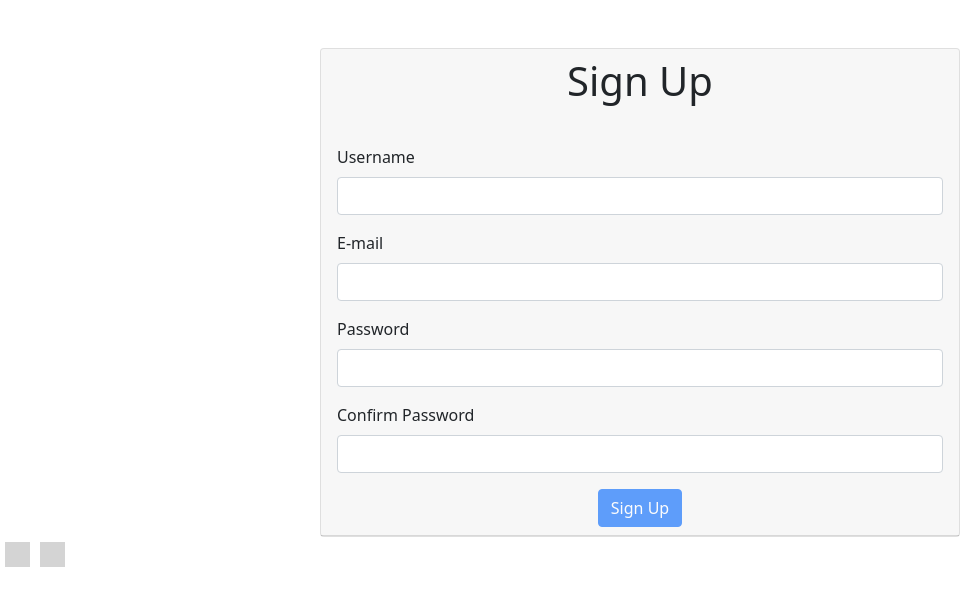
Test case: Sign Up Page › Internationalization › sends the accept-language having en to the backend for sign up request
Type "user1" into the field labelled "Username".
click(640, 196); type("user1")  # box [337, 177, 943, 215]
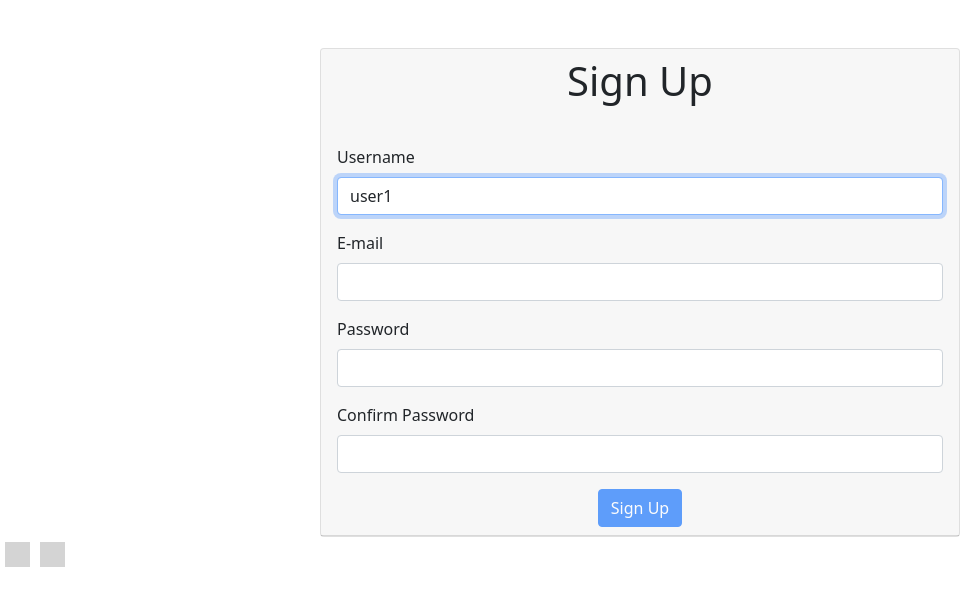
Type "user1@mail.com" into the field labelled "E-mail".
click(640, 282); type("user1@mail.com")  # box [337, 263, 943, 301]
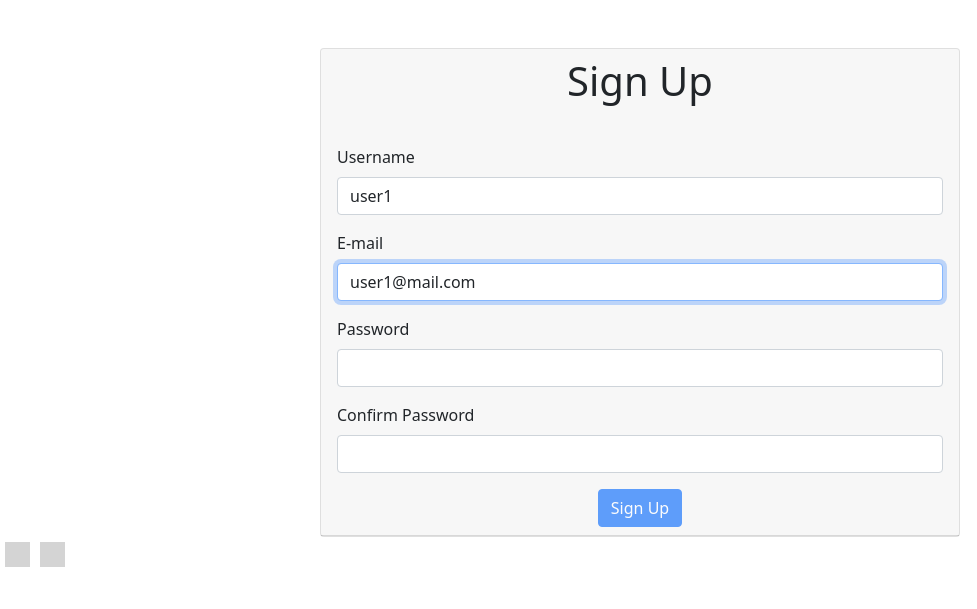
Type "P4ssword" into the password field labelled "Password".
click(640, 368); type("P4ssword")  # box [337, 349, 943, 387]
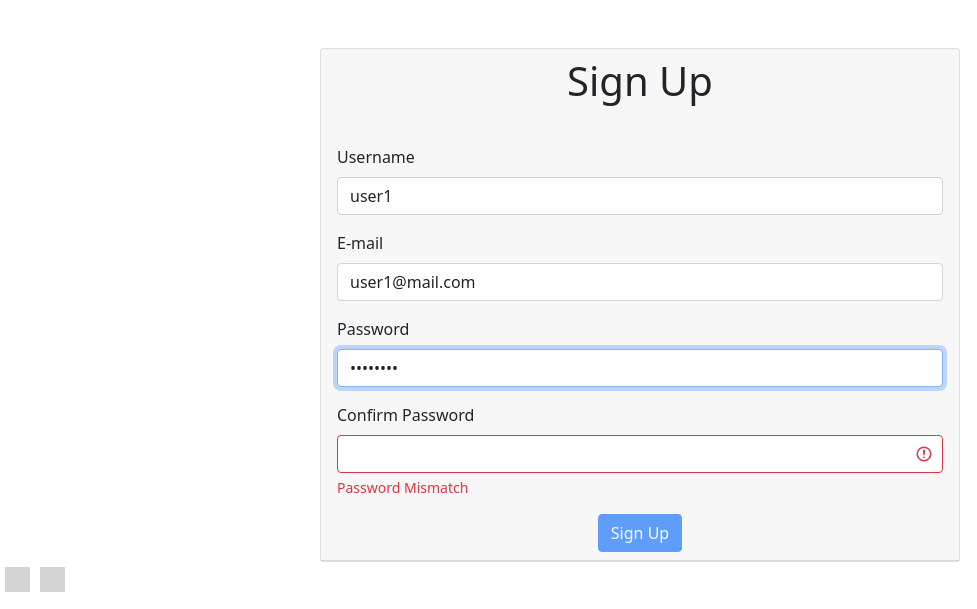
Type "P4ssword" into the password field labelled "Confirm Password".
click(640, 454); type("P4ssword")  # box [337, 435, 943, 473]
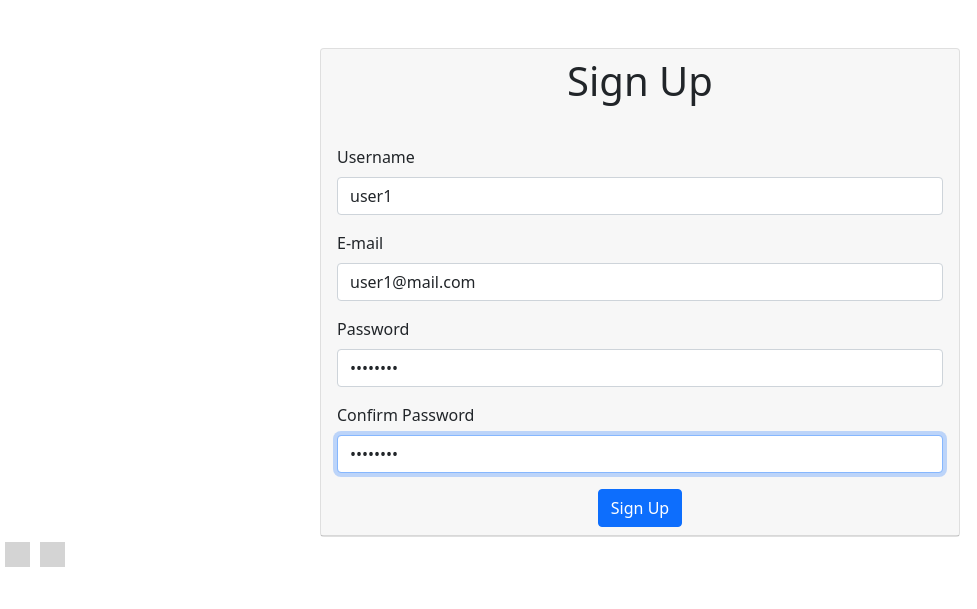
Click the button "Sign Up".
click(640, 508)  # box [598, 489, 682, 527]
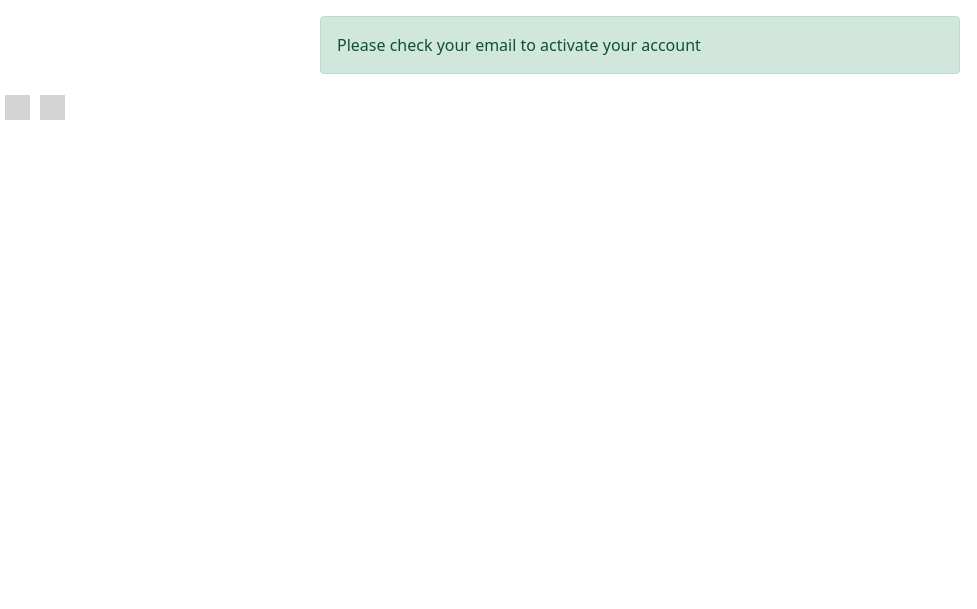
Expected: the text "Please check your email to activate your account" is shown, [320, 16, 960, 74]
